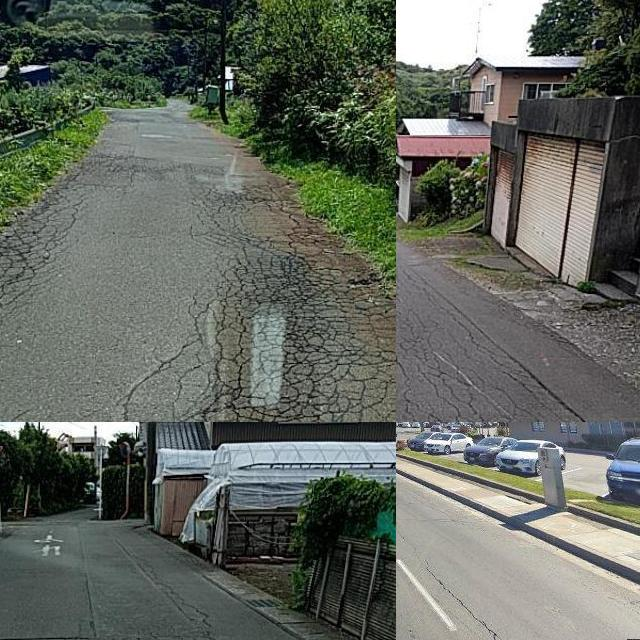Melintang: (0, 627, 93, 640)
Retak Buaya: (109, 179, 396, 422), (396, 278, 549, 422)
